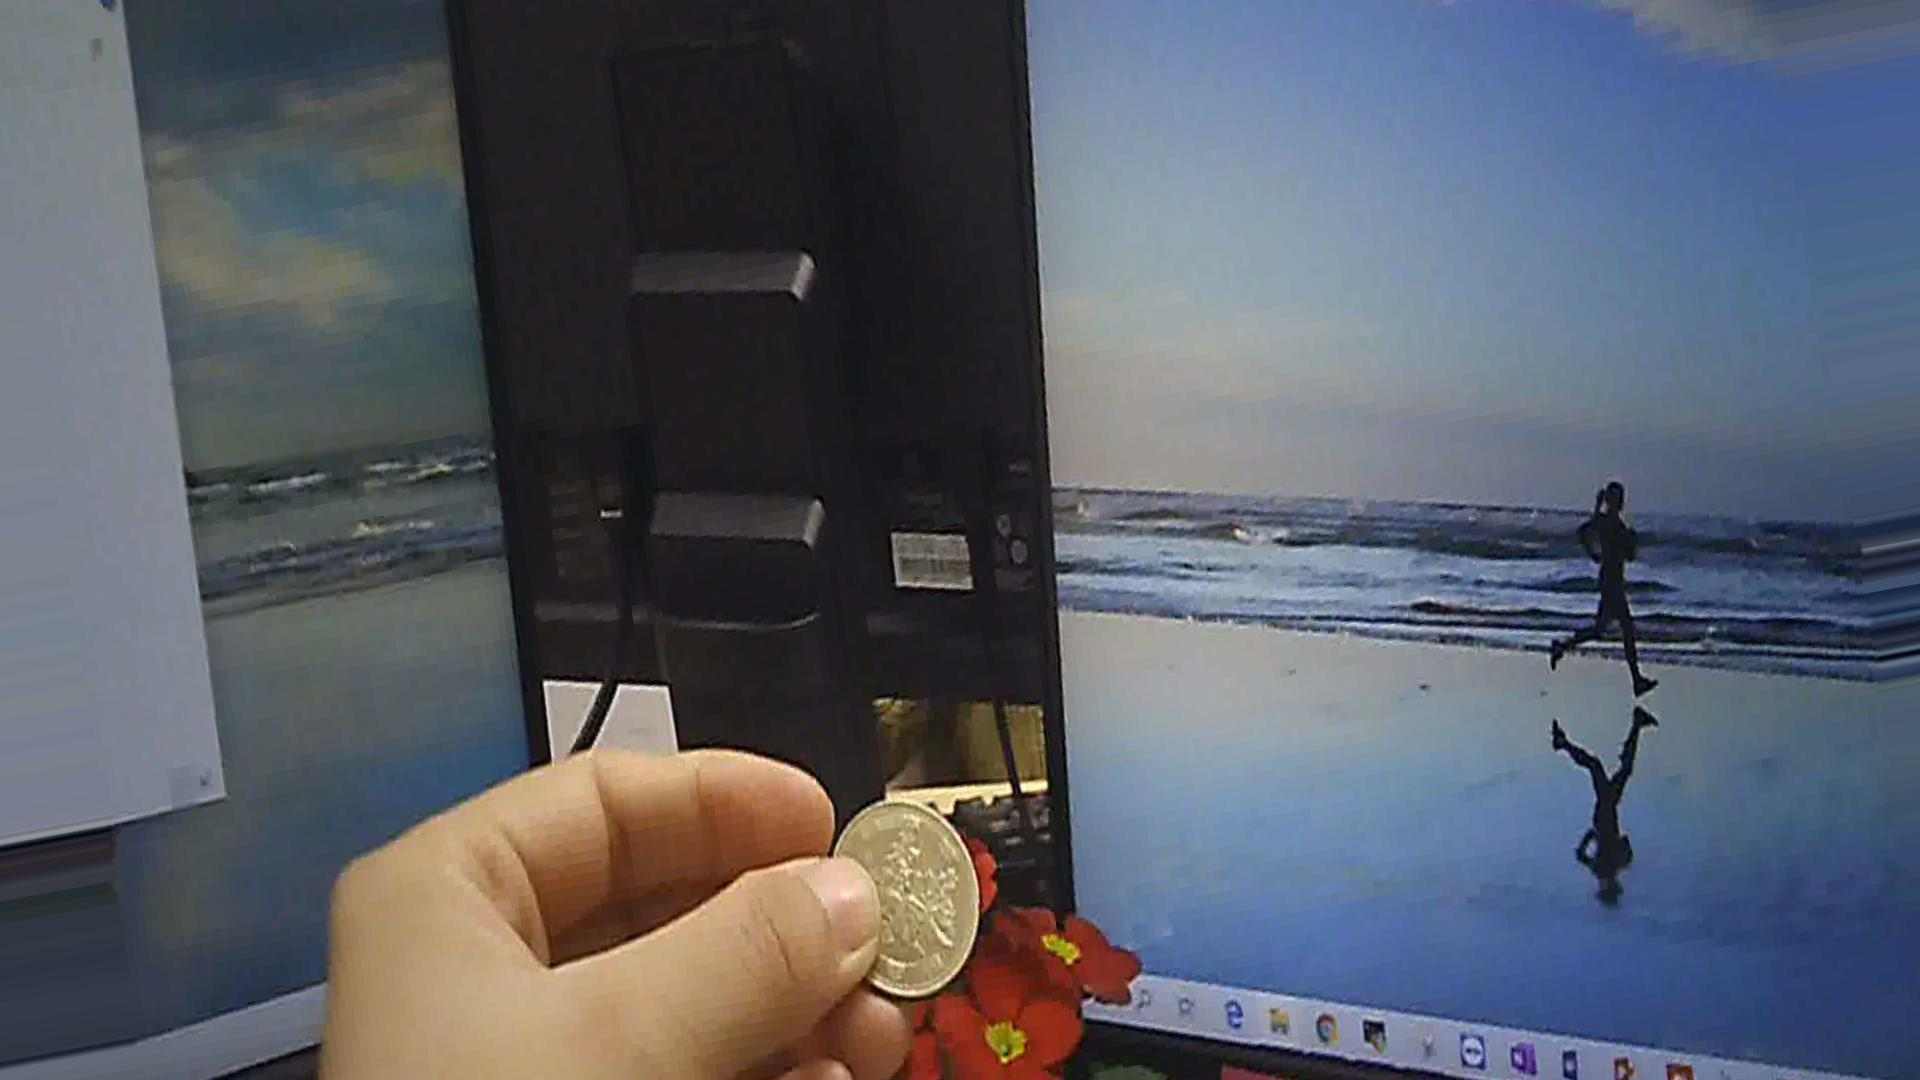500 Yen: (822, 785, 975, 1004)
